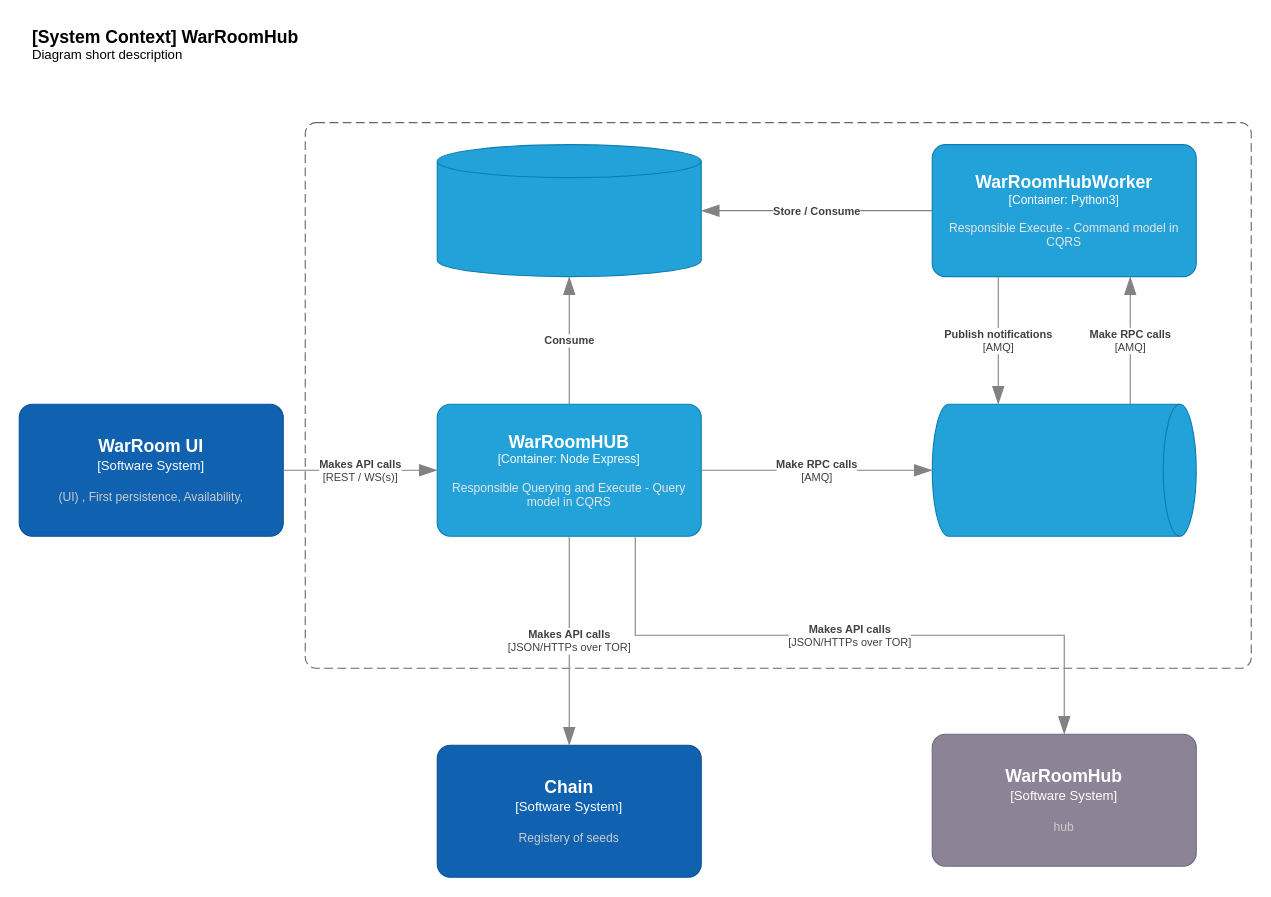
The diagram is 1271 pixels wide and 897 high, and some of its shapes have lost their labels. Here are the shapes that lost their labels. From the top down, the box of each, then its label:
(436, 144, 701, 277): Database [Container : MongoDB] Store the states of DataHub
(304, 122, 1251, 668): WarRoomHub [Software System]
(931, 403, 1196, 536): Queue [Container : RabbitMQ] Doing messageing and routing
